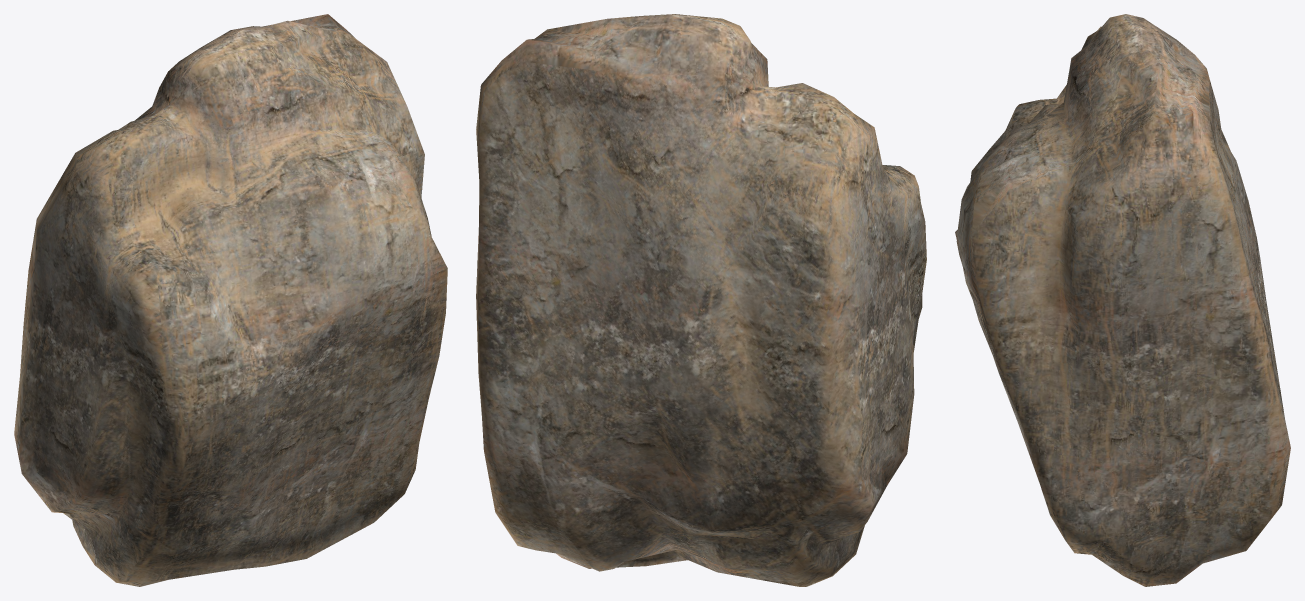
Rendered from Rock 1.fbx.
The picture shows the model from 3 angles, left to right: view 1: azimuth 30°, elevation 25°; view 2: azimuth 150°, elevation 25°; view 3: azimuth 270°, elevation 25°; orthographic projection. The views are drawn at different scales.
Parts seen in each view (by area): view 1: Rock_1; view 2: Rock_1; view 3: Rock_1.
Boxes of the visible parts, x1=… form: Rock_1: x1=14, y1=14, x2=447, y2=586; Rock_1: x1=476, y1=14, x2=926, y2=586; Rock_1: x1=955, y1=14, x2=1290, y2=586.
Bounding box in the file's own units: 2.45 × 3.4 × 2.
Materials: 1 (1 with a texture image).
